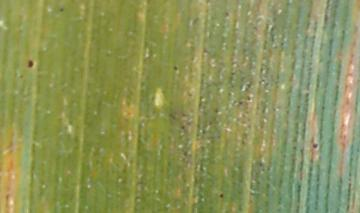tarspot: (27, 60, 35, 69), (312, 143, 319, 151), (173, 65, 179, 72), (219, 192, 225, 198), (59, 7, 64, 13)
